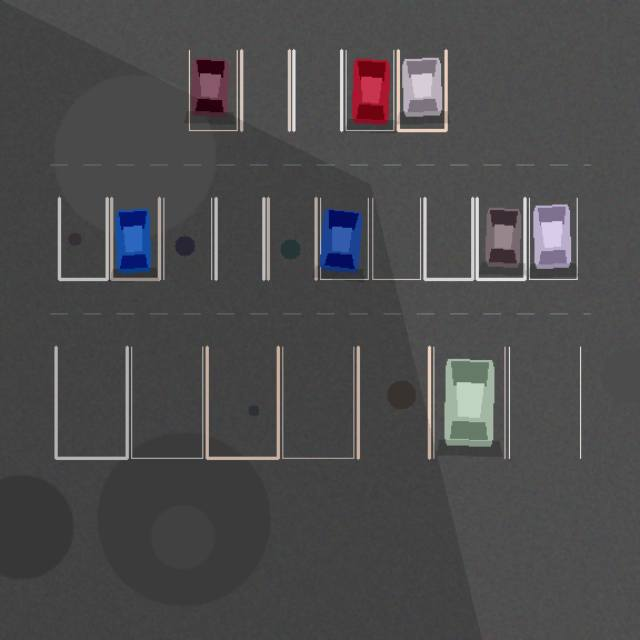space-empty: (56, 347, 127, 458), (131, 347, 202, 458), (207, 347, 278, 458), (282, 347, 353, 458), (358, 347, 429, 458), (509, 347, 580, 458), (59, 198, 107, 279), (163, 198, 211, 279), (268, 198, 316, 279), (372, 198, 420, 279), (424, 198, 472, 279), (241, 50, 289, 130), (293, 50, 341, 130), (216, 198, 263, 279)
space-occupied: (433, 347, 504, 458), (111, 198, 159, 279), (320, 198, 368, 279), (529, 198, 577, 279), (189, 50, 237, 130), (398, 50, 446, 130), (477, 198, 524, 279), (346, 50, 393, 130)
